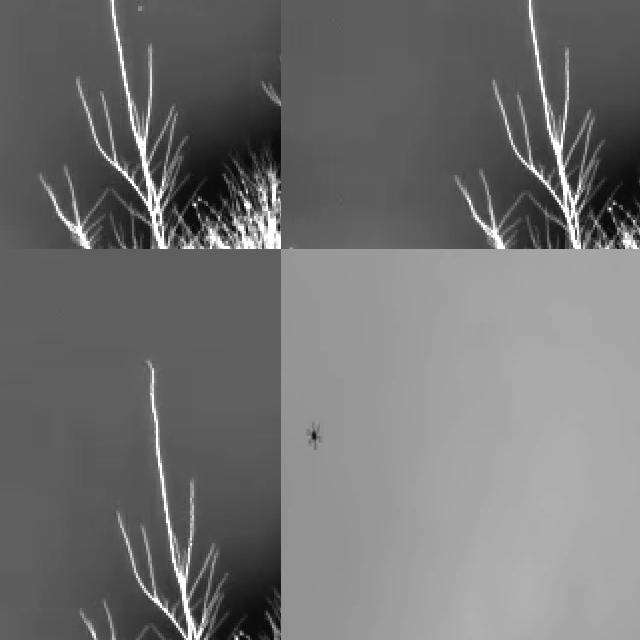0: (129, 0, 151, 21)
drone: (300, 412, 328, 454)
